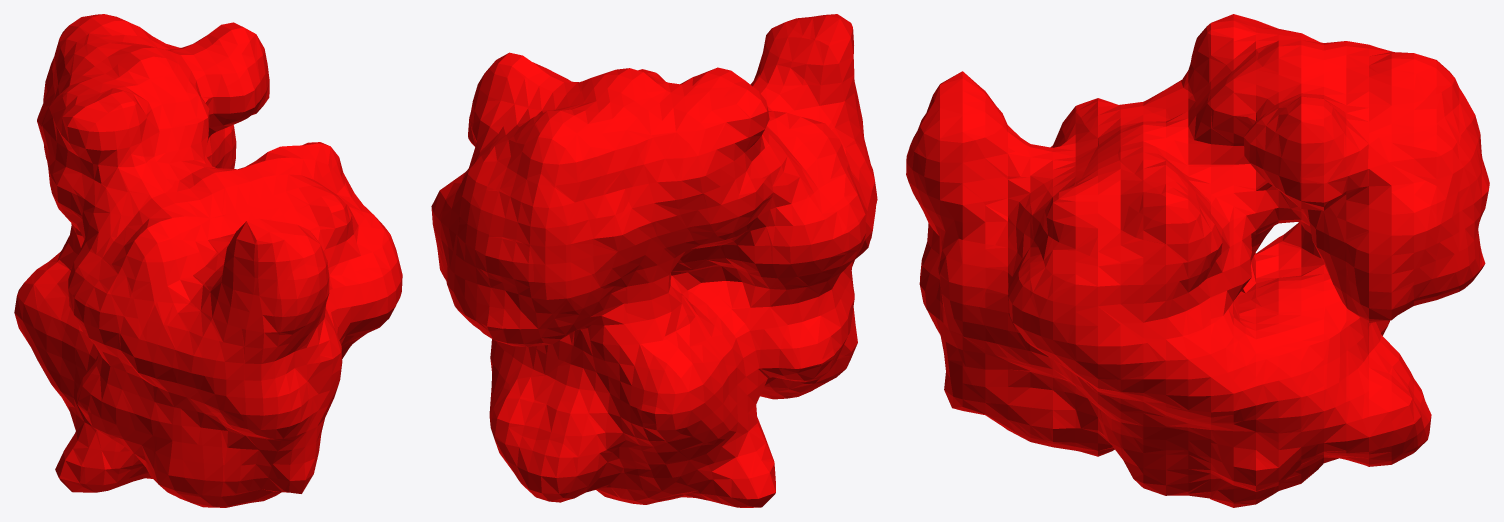
File: recJ_coarse.dae
3 renders of one model, left to right at view 1: azimuth 30°, elevation 25°; view 2: azimuth 150°, elevation 25°; view 3: azimuth 270°, elevation 25°, orthographic. The views are drawn at different scales.
Visible parts, largest first — view 1: recJ; view 2: recJ; view 3: recJ.
Boxes of the visible parts, x1,y1,x2,y2 form: recJ: [14, 14, 402, 507]; recJ: [431, 14, 877, 507]; recJ: [906, 14, 1489, 507].
Bounding box in the file's own units: 53.28 × 69.82 × 81.72.
